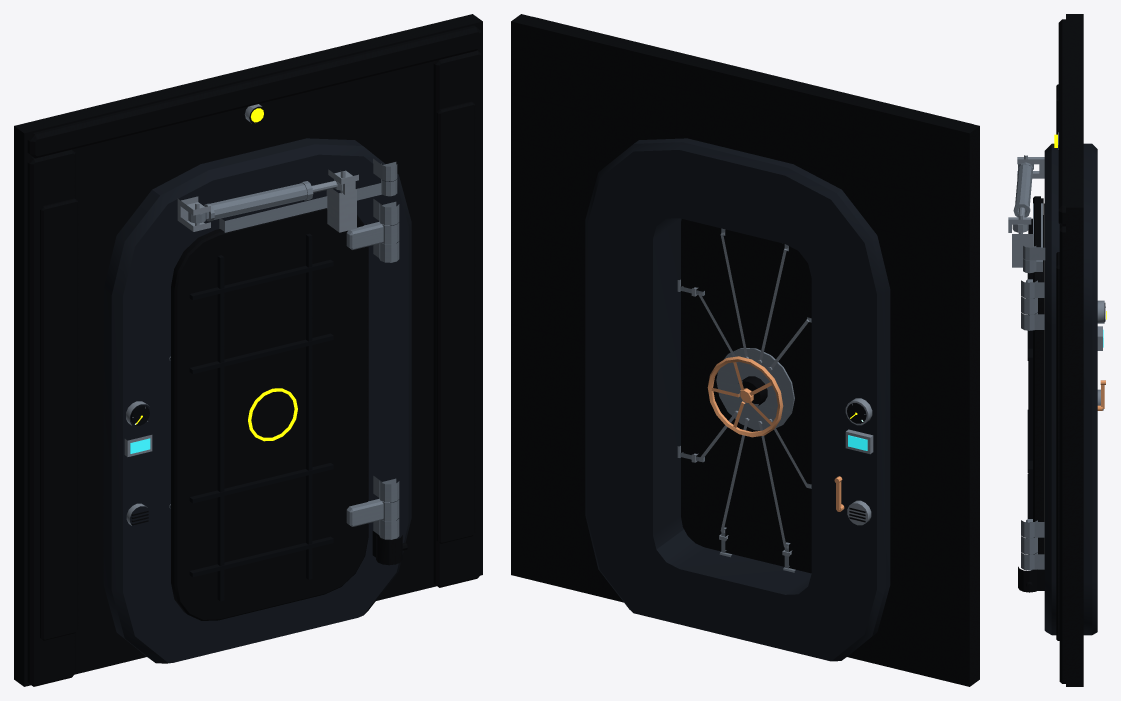
The picture shows the model from 3 angles, left to right: view 1: azimuth 30°, elevation 25°; view 2: azimuth 150°, elevation 25°; view 3: azimuth 270°, elevation 25°; orthographic projection. The views are drawn at different scales.
Parts seen in each view (by area): view 1: bulkhead_frame, bulkhead_leaf_shell, bulkhead_frame_collar, bulkhead_Rib_back, bulkhead_HingeHeavy_leaf, bulkhead_Damper_body, bulkhead_HingeHeavy_frame, bulkhead_Davit_arm, bulkhead_leaf_damper_mount, bulkhead_Actuator_housing, bulkhead_damper_mount; view 2: bulkhead_frame, bulkhead_frame_collar, bulkhead_leaf_shell, bulkhead_LockWheel, bulkhead_OverrideOrange_Handwheel; view 3: bulkhead_frame, bulkhead_frame_collar, bulkhead_leaf_shell, bulkhead_HingeHeavy_frame, bulkhead_Rib_back, bulkhead_Damper_body, bulkhead_leaf_damper_mount, bulkhead_HingeHeavy_leaf, bulkhead_Actuator_housing, bulkhead_Davit_arm, bulkhead_damper_mount, bulkhead_Gauge_housing_back (+3 smaller).
Boxes of the visible parts, <box> form: bulkhead_frame: <box>14,14,482,686</box>; bulkhead_leaf_shell: <box>171,208,368,620</box>; bulkhead_frame_collar: <box>103,138,411,663</box>; bulkhead_Rib_back: <box>189,233,333,601</box>; bulkhead_HingeHeavy_leaf: <box>346,221,399,526</box>; bulkhead_Damper_body: <box>188,181,313,223</box>; bulkhead_HingeHeavy_frame: <box>373,199,399,539</box>; bulkhead_Davit_arm: <box>219,179,397,232</box>; bulkhead_leaf_damper_mount: <box>326,169,358,232</box>; bulkhead_Actuator_housing: <box>372,531,407,565</box>; bulkhead_damper_mount: <box>177,196,210,231</box>; bulkhead_frame: <box>511,14,979,686</box>; bulkhead_frame_collar: <box>585,138,890,661</box>; bulkhead_leaf_shell: <box>681,219,811,573</box>; bulkhead_LockWheel: <box>716,348,794,430</box>; bulkhead_OverrideOrange_Handwheel: <box>707,356,783,437</box>; bulkhead_frame: <box>1056,14,1083,686</box>; bulkhead_frame_collar: <box>1044,143,1097,635</box>; bulkhead_leaf_shell: <box>1033,196,1043,554</box>; bulkhead_HingeHeavy_frame: <box>1021,280,1044,570</box>; bulkhead_Rib_back: <box>1027,218,1032,554</box>; bulkhead_Damper_body: <box>1013,162,1033,217</box>; bulkhead_leaf_damper_mount: <box>1008,215,1033,267</box>; bulkhead_HingeHeavy_leaf: <box>1021,279,1037,554</box>; bulkhead_Actuator_housing: <box>1018,566,1044,592</box>; bulkhead_Davit_arm: <box>1023,203,1042,273</box>; bulkhead_damper_mount: <box>1017,155,1044,178</box>; bulkhead_Gauge_housing_back: <box>1097,300,1104,350</box>.
Size of what is drawn, in the model's own units: 2.6 by 3 by 0.557.
11 materials, 5 textured.
